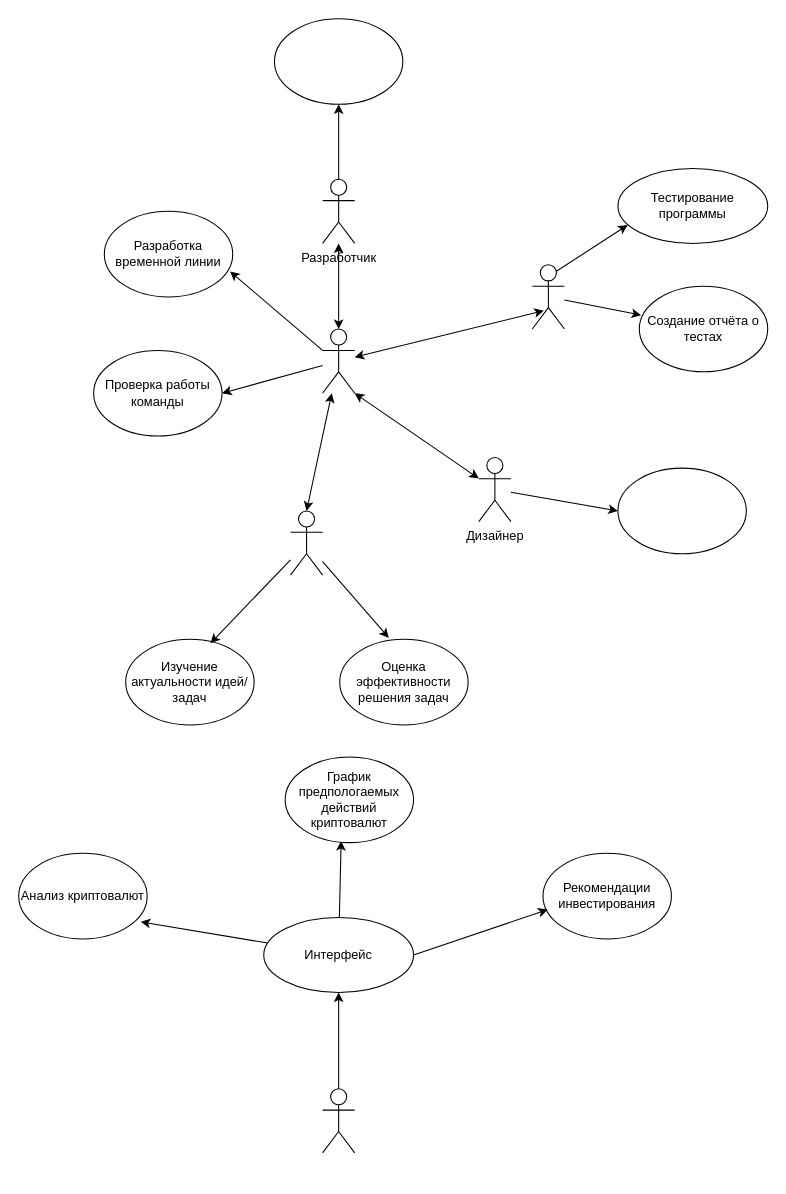
Some shapes in this 786 by 1194 pixel diagram are drawn without their labels. Here are the shapes that lost their labels. From the top down, the centre of each, then its label:
At [338,61]: "Разработка программы".
At [547,296]: "Тестировщик".
At [338,360]: "Тим лид".
At [681,510]: "Дизайн интерфейса/сайта".
At [306,542]: "Аналитик".
At [338,1120]: "Пользователь".
